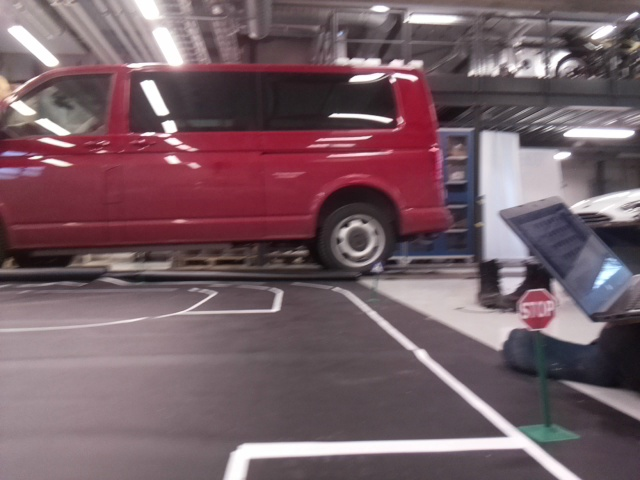Stop: (514, 286, 560, 329)
